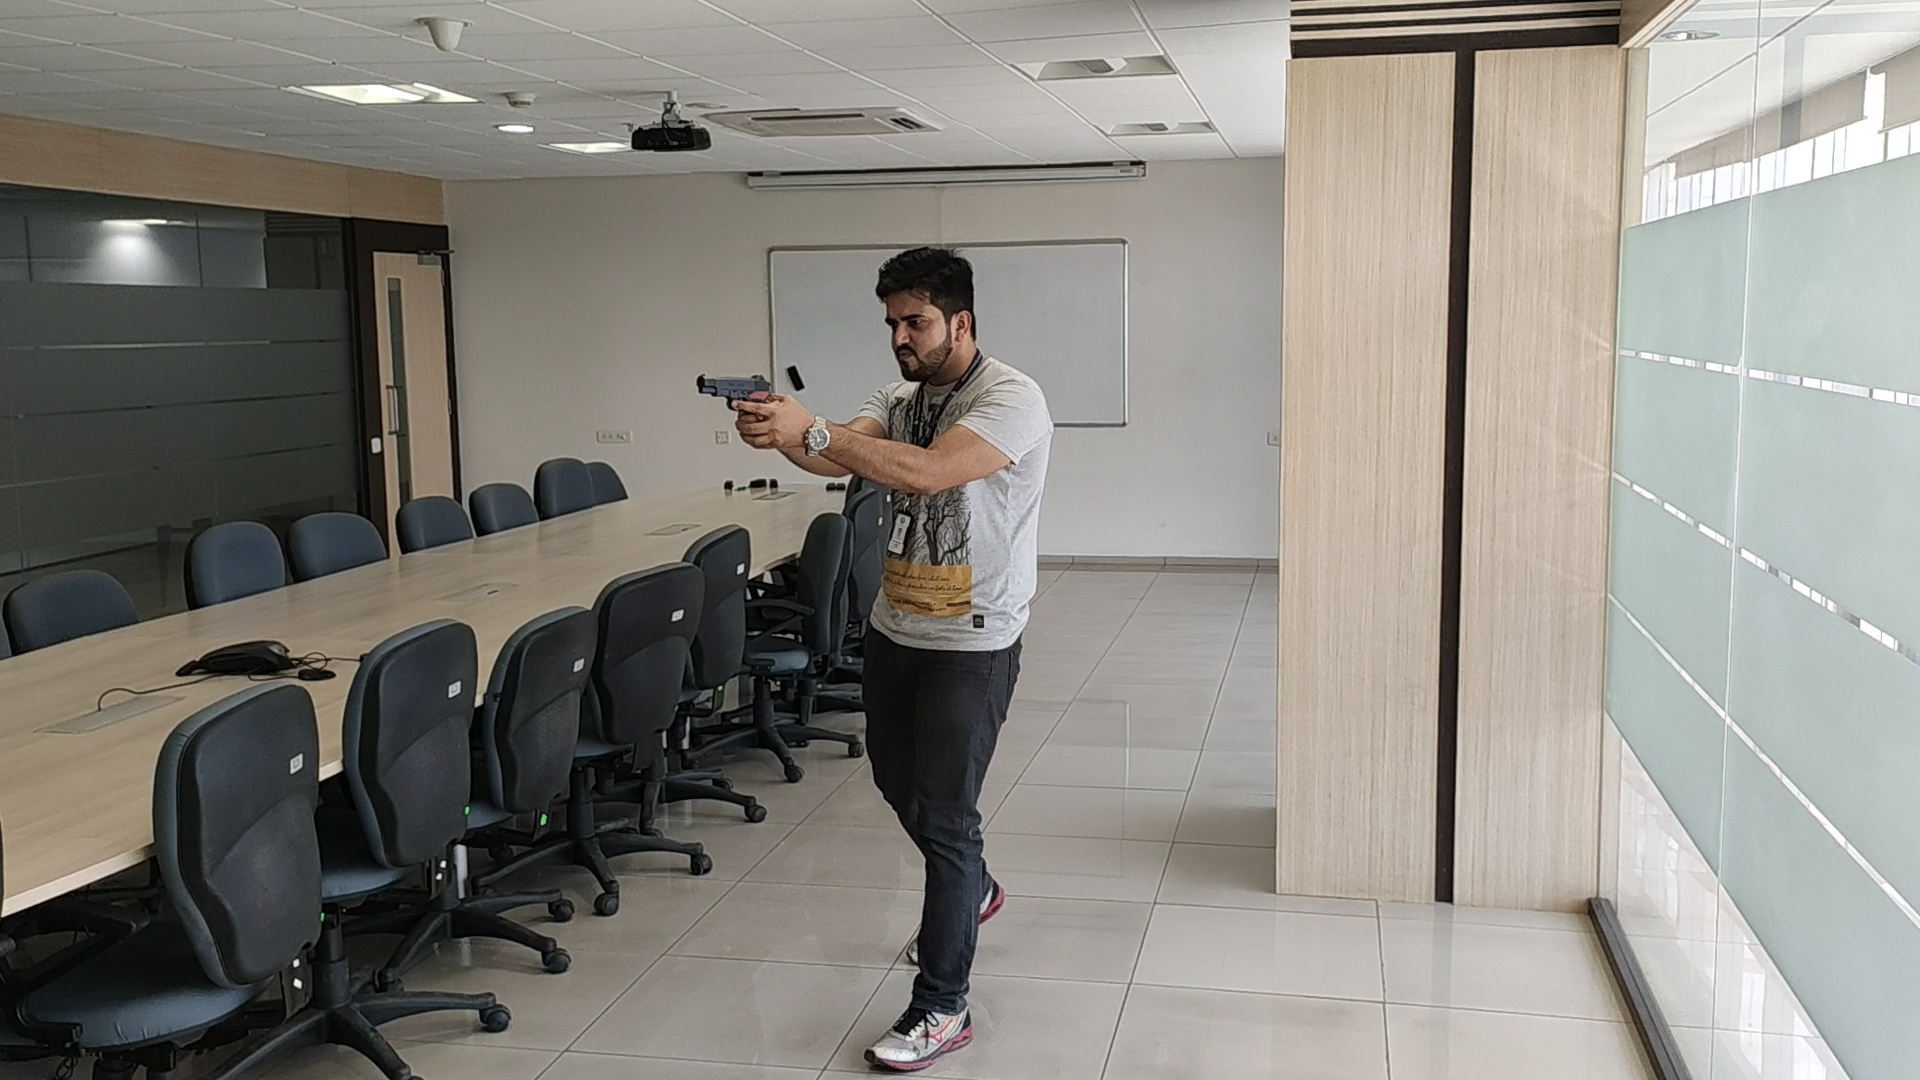gun: (698, 373, 769, 401)
